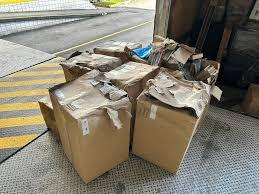damage_box: (37, 36, 221, 183)
